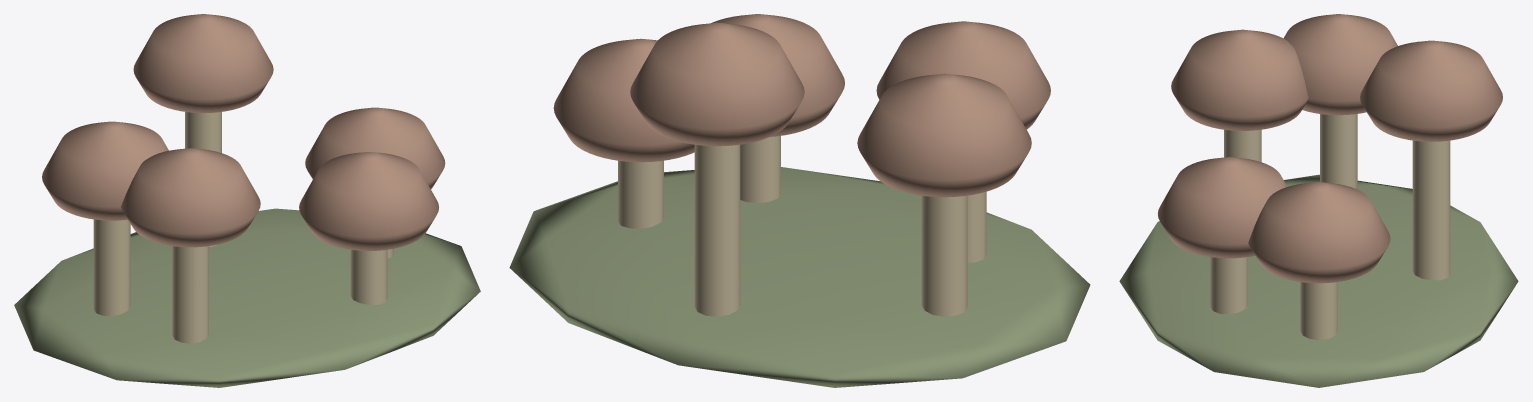
Rendered from mushroompatch.glb.
3 views of the same model, side by side, from view 1: azimuth 30°, elevation 25°; view 2: azimuth 150°, elevation 25°; view 3: azimuth 270°, elevation 25° (orthographic). The views are drawn at different scales.
Visible parts, largest first — view 1: moss-bed, mushroom-cap-2, mushroom-cap-3, mushroom-cap-1, mushroom-cap-4, mushroom-cap-0, mushroom-stem-4, mushroom-stem-1, mushroom-stem-3, mushroom-stem-2; view 2: moss-bed, mushroom-cap-2, mushroom-cap-4, mushroom-cap-0, mushroom-cap-1, mushroom-stem-2, mushroom-stem-4, mushroom-cap-3, mushroom-stem-0, mushroom-stem-3, mushroom-stem-1; view 3: moss-bed, mushroom-cap-2, mushroom-cap-0, mushroom-cap-1, mushroom-cap-3, mushroom-cap-4, mushroom-stem-2, mushroom-stem-4, mushroom-stem-0, mushroom-stem-3, mushroom-stem-1.
Boxes of the visible parts, left/top/right/bottom form: moss-bed: left=14, top=208, right=480, bottom=387; mushroom-cap-2: left=133, top=14, right=273, bottom=113; mushroom-cap-3: left=299, top=152, right=438, bottom=250; mushroom-cap-1: left=121, top=148, right=260, bottom=247; mushroom-cap-4: left=42, top=121, right=168, bottom=220; mushroom-cap-0: left=305, top=107, right=445, bottom=189; mushroom-stem-4: left=93, top=219, right=130, bottom=316; mushroom-stem-1: left=172, top=246, right=208, bottom=343; mushroom-stem-3: left=350, top=249, right=387, bottom=304; mushroom-stem-2: left=185, top=112, right=221, bottom=246; moss-bed: left=509, top=167, right=1090, bottom=387; mushroom-cap-2: left=630, top=22, right=804, bottom=146; mushroom-cap-4: left=857, top=73, right=1031, bottom=197; mushroom-cap-0: left=553, top=38, right=694, bottom=162; mushroom-cap-1: left=876, top=21, right=1050, bottom=129; mushroom-stem-2: left=694, top=144, right=740, bottom=316; mushroom-stem-4: left=921, top=195, right=967, bottom=316; mushroom-cap-3: left=711, top=14, right=844, bottom=136; mushroom-stem-0: left=618, top=160, right=663, bottom=228; mushroom-stem-3: left=740, top=136, right=780, bottom=202; mushroom-stem-1: left=967, top=191, right=986, bottom=262; moss-bed: left=1119, top=174, right=1518, bottom=387; mushroom-cap-2: left=1360, top=40, right=1502, bottom=141; mushroom-cap-0: left=1248, top=182, right=1390, bottom=283; mushroom-cap-1: left=1171, top=29, right=1308, bottom=130; mushroom-cap-3: left=1158, top=157, right=1287, bottom=258; mushroom-cap-4: left=1283, top=14, right=1397, bottom=115; mushroom-stem-2: left=1412, top=140, right=1450, bottom=280; mushroom-stem-4: left=1320, top=114, right=1357, bottom=189; mushroom-stem-0: left=1300, top=282, right=1337, bottom=340; mushroom-stem-3: left=1210, top=257, right=1247, bottom=314; mushroom-stem-1: left=1224, top=129, right=1261, bottom=161.
Bounding box in the file's own units: 0.67 × 0.383 × 0.53.
